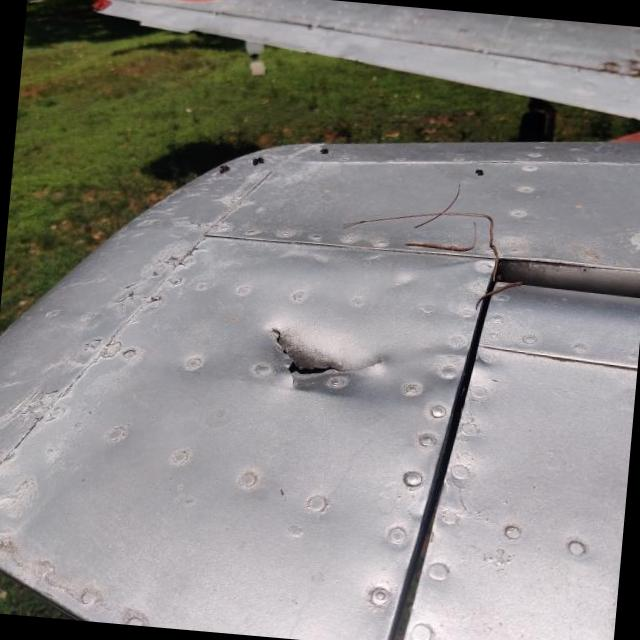Crack: (265, 287, 387, 394)
